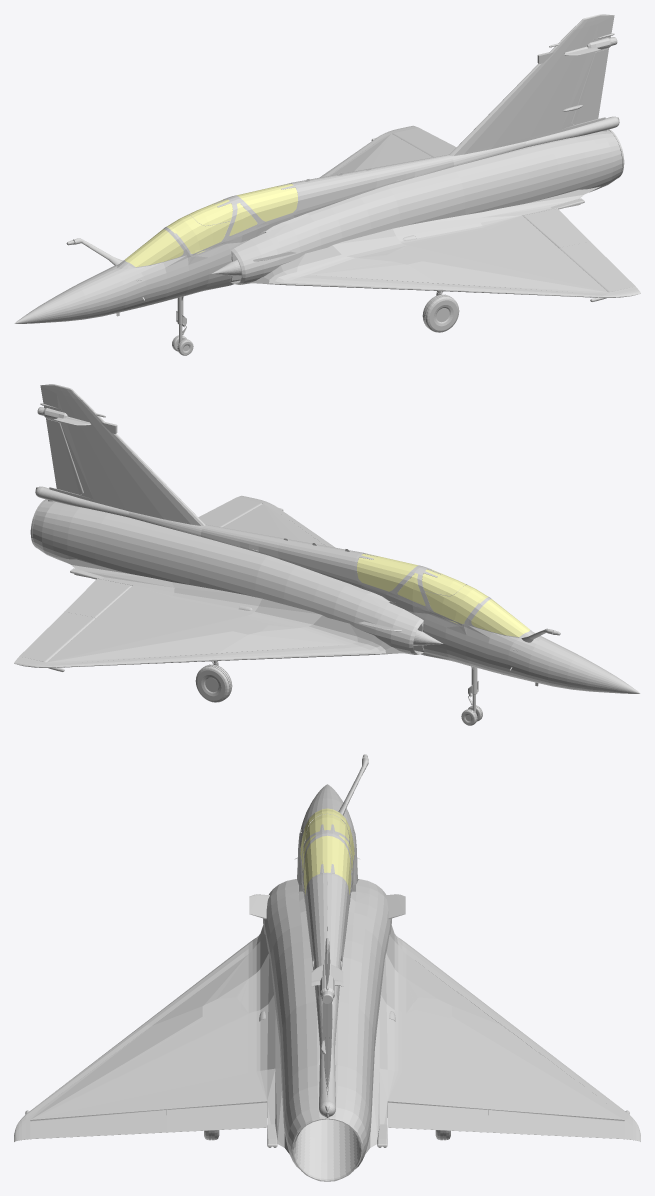
Rendered from dassault_mirage_2000.glb.
3 renders of one model, top to bottom at view 1: azimuth 30°, elevation 25°; view 2: azimuth 150°, elevation 25°; view 3: azimuth 270°, elevation 25°, orthographic. The views are drawn at different scales.
Visible parts, largest first — view 1: fuselage, ailes, queue-BIPLACE, verriereAvant-BIPLACE, aileronG, direction, verriereArriere-BIPLACE, slatG1, elevonG, vitres, roueG, slatG2 (+2 smaller); view 2: fuselage, ailes, queue-BIPLACE, verriereAvant-BIPLACE, aileronD, direction, verriereArriere-BIPLACE, slatD1, elevonD, vitres, roueD, slatD2 (+2 smaller); view 3: ailes, fuselage, queue-BIPLACE, tuyere, aileronD, aileronG, elevonD, elevonG, verriereArriere-BIPLACE, slatD1, slatG1, verriereAvant-BIPLACE (+6 smaller).
Boxes of the visible parts, x1=… form: fuselage: x1=14, y1=14, x2=622, y2=323; ailes: x1=250, y1=125, x2=640, y2=301; queue-BIPLACE: x1=209, y1=116, x2=619, y2=249; verriereAvant-BIPLACE: x1=168, y1=199, x2=232, y2=253; aileronG: x1=559, y1=242, x2=635, y2=292; direction: x1=571, y1=48, x2=608, y2=124; verriereArriere-BIPLACE: x1=236, y1=183, x2=297, y2=221; slatG1: x1=291, y1=275, x2=437, y2=290; elevonG: x1=523, y1=208, x2=590, y2=248; vitres: x1=125, y1=229, x2=183, y2=267; roueG: x1=422, y1=294, x2=459, y2=332; slatG2: x1=437, y1=283, x2=588, y2=297; fuselage: x1=32, y1=384, x2=640, y2=693; ailes: x1=14, y1=495, x2=404, y2=671; queue-BIPLACE: x1=35, y1=486, x2=446, y2=619; verriereAvant-BIPLACE: x1=422, y1=569, x2=486, y2=623; aileronD: x1=19, y1=612, x2=95, y2=662; direction: x1=46, y1=418, x2=83, y2=494; verriereArriere-BIPLACE: x1=357, y1=553, x2=418, y2=591; slatD1: x1=217, y1=645, x2=363, y2=660; elevonD: x1=64, y1=578, x2=131, y2=618; vitres: x1=471, y1=599, x2=529, y2=637; roueD: x1=195, y1=664, x2=232, y2=702; slatD2: x1=66, y1=653, x2=217, y2=667; ailes: x1=14, y1=925, x2=640, y2=1154; fuselage: x1=263, y1=784, x2=391, y2=1168; queue-BIPLACE: x1=298, y1=832, x2=356, y2=1117; tuyere: x1=293, y1=1119, x2=361, y2=1180; aileronD: x1=488, y1=1110, x2=624, y2=1139; aileronG: x1=30, y1=1110, x2=166, y2=1139; elevonD: x1=387, y1=1102, x2=488, y2=1132; elevonG: x1=166, y1=1102, x2=267, y2=1132; verriereArriere-BIPLACE: x1=303, y1=836, x2=351, y2=894; slatD1: x1=410, y1=947, x2=513, y2=1025; slatG1: x1=141, y1=947, x2=244, y2=1025; verriereAvant-BIPLACE: x1=300, y1=809, x2=354, y2=859.
Size of the model in its own units: 13.83 by 5.17 by 9.06.
